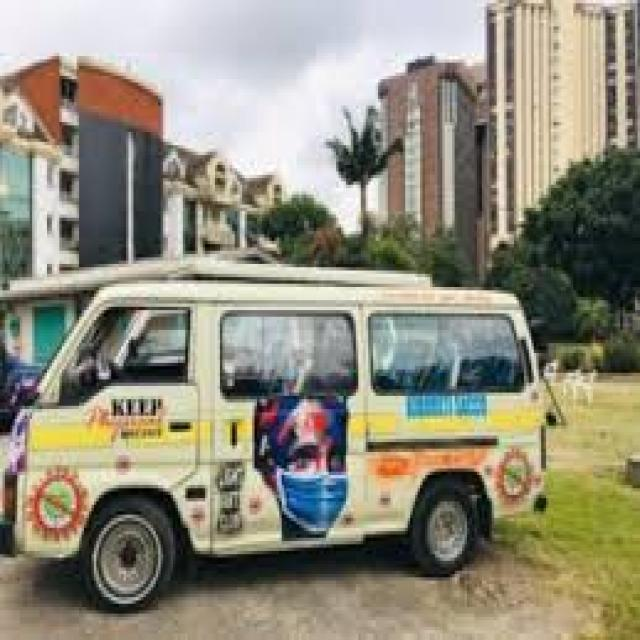matatu: (2, 208, 564, 640)
